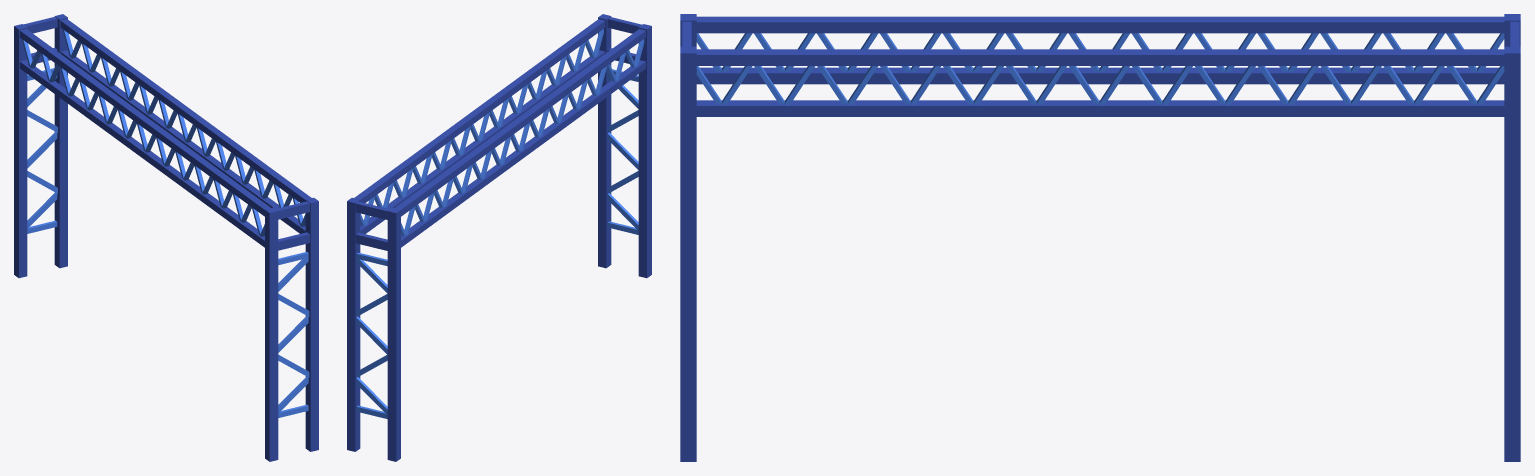
Rendered from SignHolder_4_D.fbx.
The picture shows the model from 3 angles, left to right: view 1: azimuth 30°, elevation 25°; view 2: azimuth 150°, elevation 25°; view 3: azimuth 270°, elevation 25°; orthographic projection. The views are drawn at different scales.
Visible parts, largest first — view 1: SignHolder_4_D; view 2: SignHolder_4_D; view 3: SignHolder_4_D.
Boxes of the visible parts, bbox=[...] form: SignHolder_4_D: bbox=[14, 14, 318, 461]; SignHolder_4_D: bbox=[347, 14, 651, 461]; SignHolder_4_D: bbox=[680, 14, 1520, 461].
Bounding box in the file's own units: 98.7 × 477 × 889.
